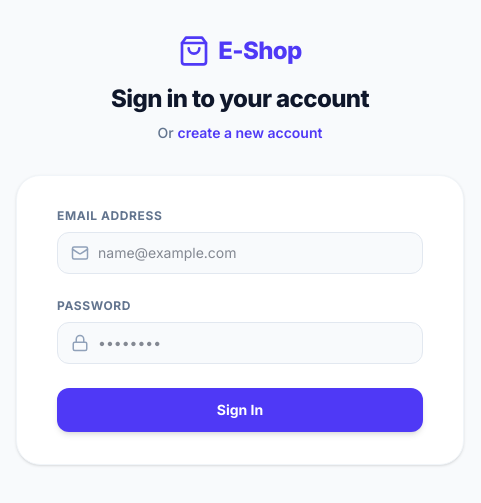
Test: Login Page › validates empty input values
Click the button "Sign In" at x=240, y=410, box [57, 388, 423, 432]
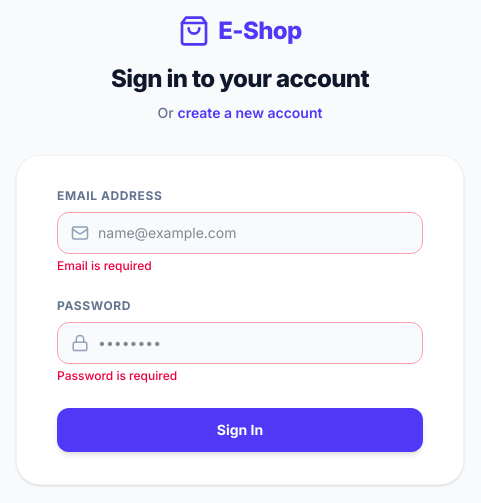
Expected: the text "Email is required" is shown, [57, 258, 152, 273]
Expected: the text "Password is required" is shown, [57, 368, 177, 383]
